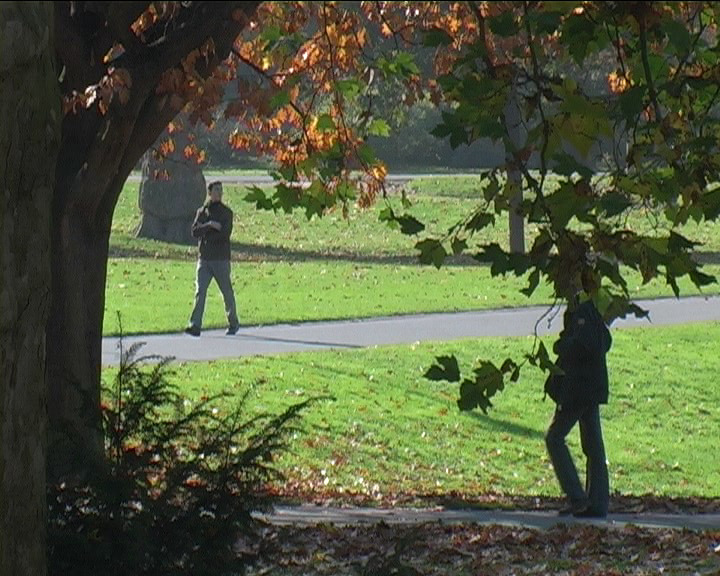deflection: (194, 180, 240, 251)
